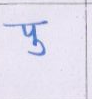u_matra: (28, 39, 48, 57)
